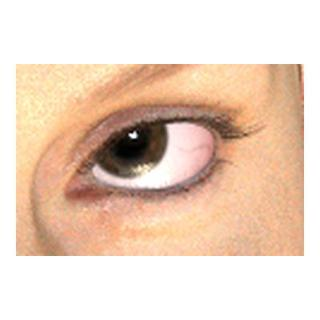pupil: (107, 118, 146, 157)
